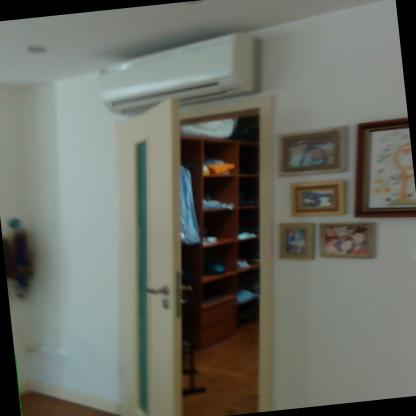semi: (99, 90, 312, 415)
